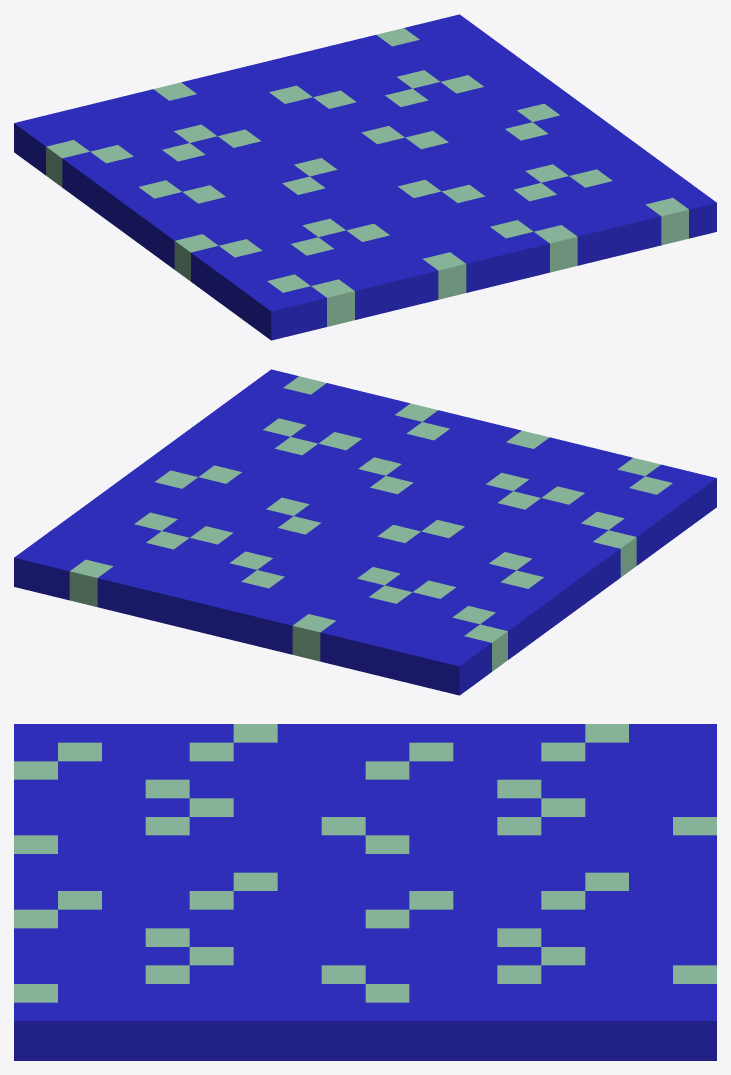
Rendered from water.glb.
3 views of the same model, one above another, from view 1: azimuth 30°, elevation 25°; view 2: azimuth 150°, elevation 25°; view 3: azimuth 270°, elevation 25° (orthographic). The views are drawn at different scales.
Visible parts, largest first — view 1: Object_2.005; view 2: Object_2.005; view 3: Object_2.005.
Part boxes in pixels (x1,y1,x2,y2): Object_2.005: (14, 14, 716, 340); Object_2.005: (14, 369, 716, 695); Object_2.005: (14, 724, 716, 1060).
Size of the model in its own units: 16 by 1 by 16.
1 material, 1 textured.
